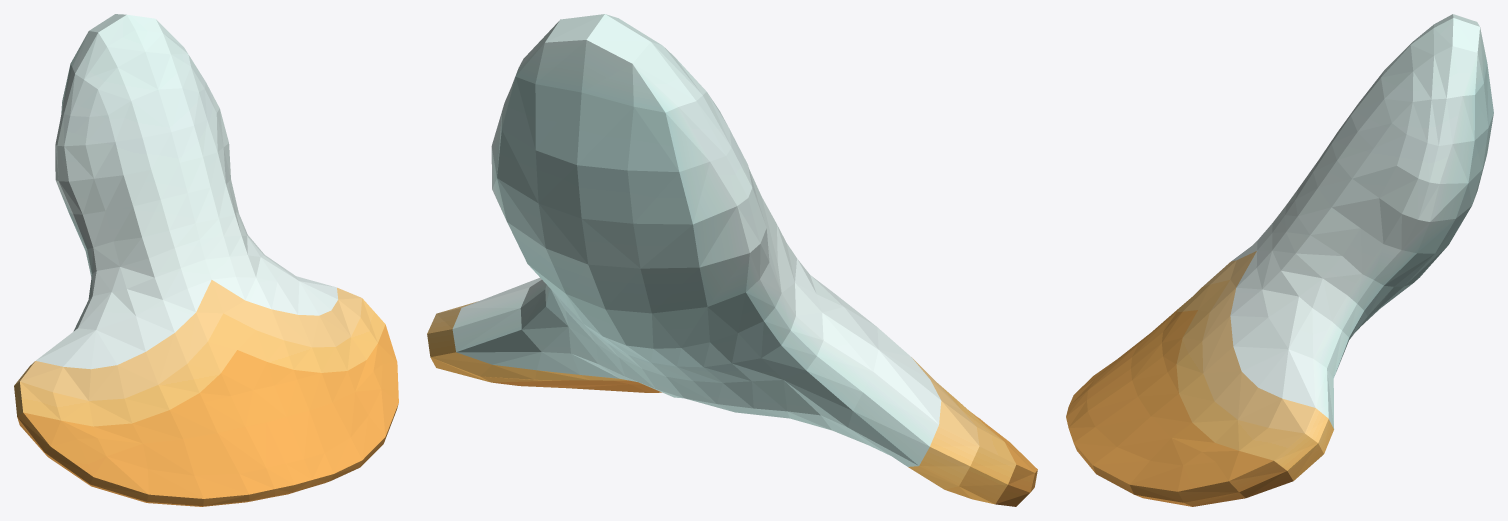
The model's file is CharSkyKid_Tail_AP27ManateeTail.glb.
The picture shows the model from 3 angles, left to right: view 1: azimuth 30°, elevation 25°; view 2: azimuth 150°, elevation 25°; view 3: azimuth 270°, elevation 25°; orthographic projection. The views are drawn at different scales.
Visible parts, largest first — view 1: CharSkyKid_Tail_AP27ManateeTail; view 2: CharSkyKid_Tail_AP27ManateeTail; view 3: CharSkyKid_Tail_AP27ManateeTail.
Boxes of the visible parts, <box> form: CharSkyKid_Tail_AP27ManateeTail: <box>14,14,398,506</box>; CharSkyKid_Tail_AP27ManateeTail: <box>427,14,1037,506</box>; CharSkyKid_Tail_AP27ManateeTail: <box>1066,14,1493,506</box>.
Bounding box in the file's own units: 2.77 × 2.65 × 2.45.
1 material, 1 textured.
